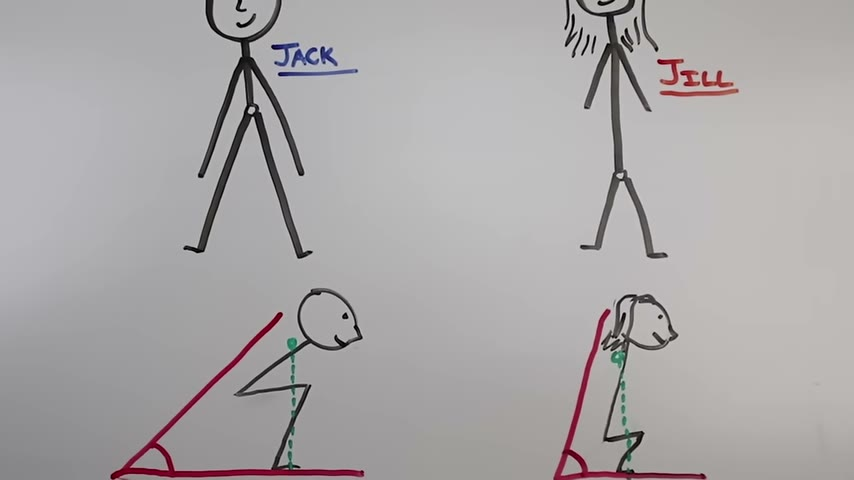barbell_plate_side: (287, 285, 365, 452), (312, 288, 367, 410)
